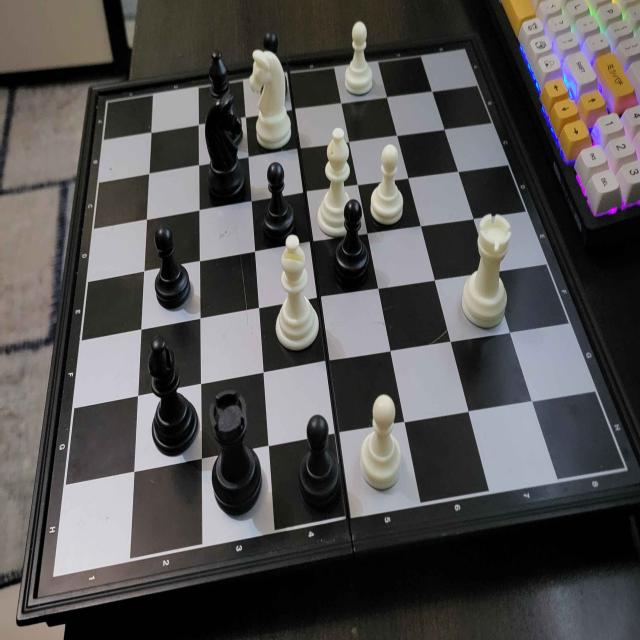black-bishop: (144, 334, 198, 462)
black-knight: (203, 93, 246, 204)
black-pawn: (293, 412, 343, 510), (150, 222, 193, 311), (332, 197, 370, 285), (260, 158, 296, 236)
black-rook: (206, 384, 271, 524)
chess-board: (26, 35, 640, 636)
white-bishop: (274, 233, 320, 354), (317, 126, 352, 237)
white-knight: (248, 46, 292, 150)
white-pawn: (357, 392, 404, 492), (368, 141, 405, 229), (344, 21, 374, 98)
white-rook: (459, 205, 512, 332)
